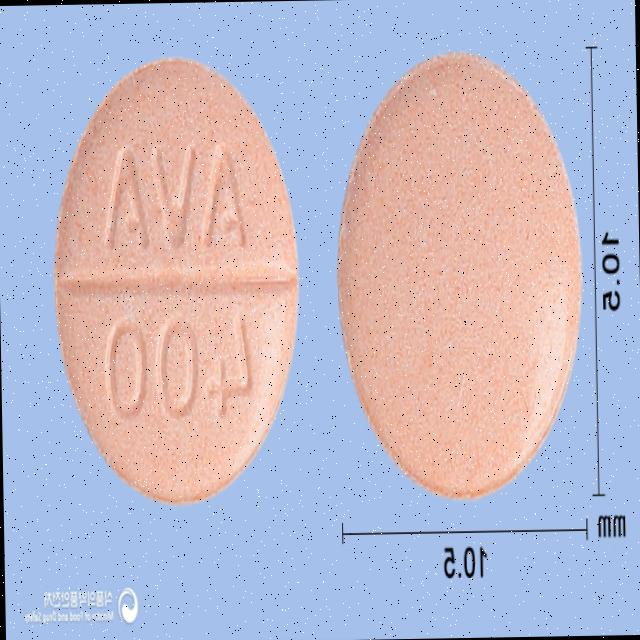Aclova: (48, 54, 304, 511)
